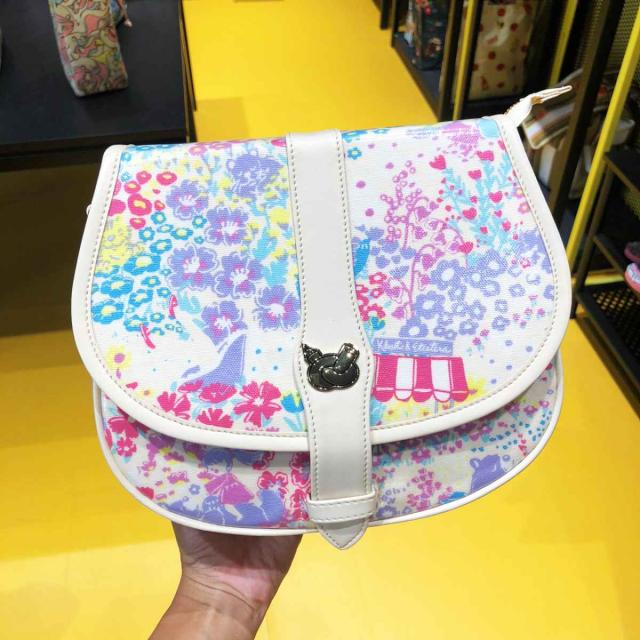Handbag: (63, 100, 594, 558)
